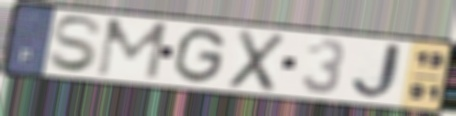3: (301, 37, 346, 97)
G: (171, 26, 229, 85)
J: (349, 42, 410, 101)
M: (93, 17, 171, 82)
S: (46, 14, 106, 74)
X: (225, 27, 288, 94)
